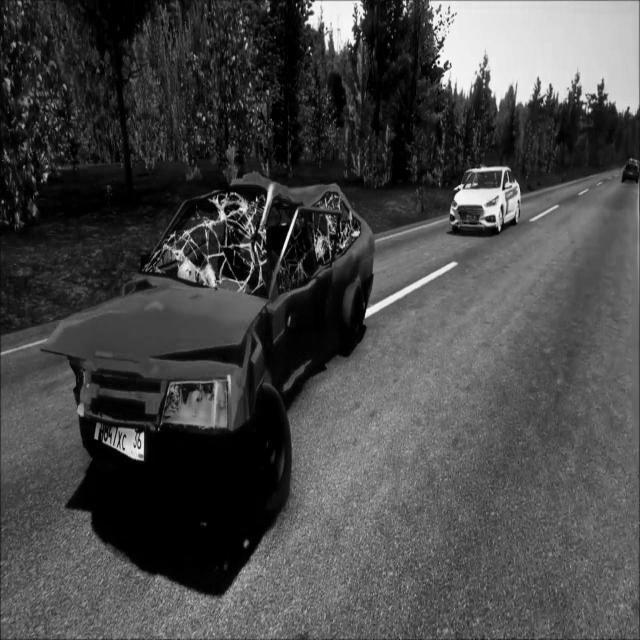accident: (38, 168, 378, 520)
vehicle: (447, 163, 523, 237), (619, 153, 640, 188)
